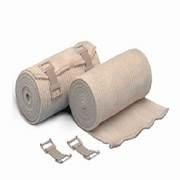cotton: (69, 49, 167, 146)
